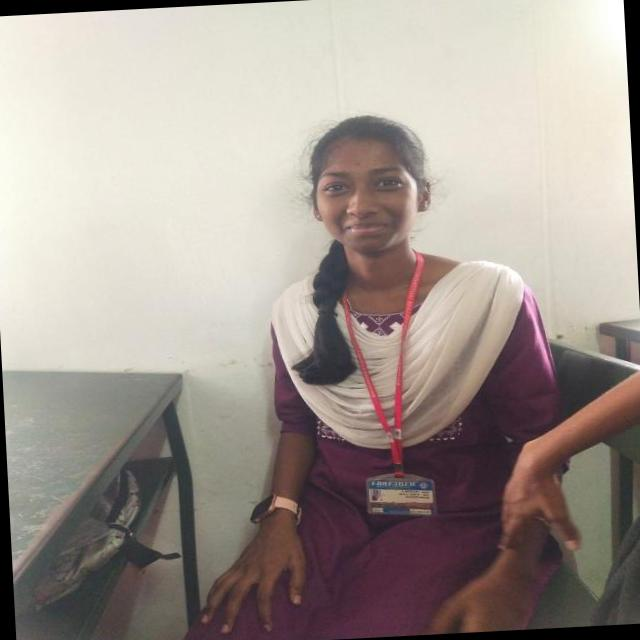id_card: (339, 235, 438, 522)
